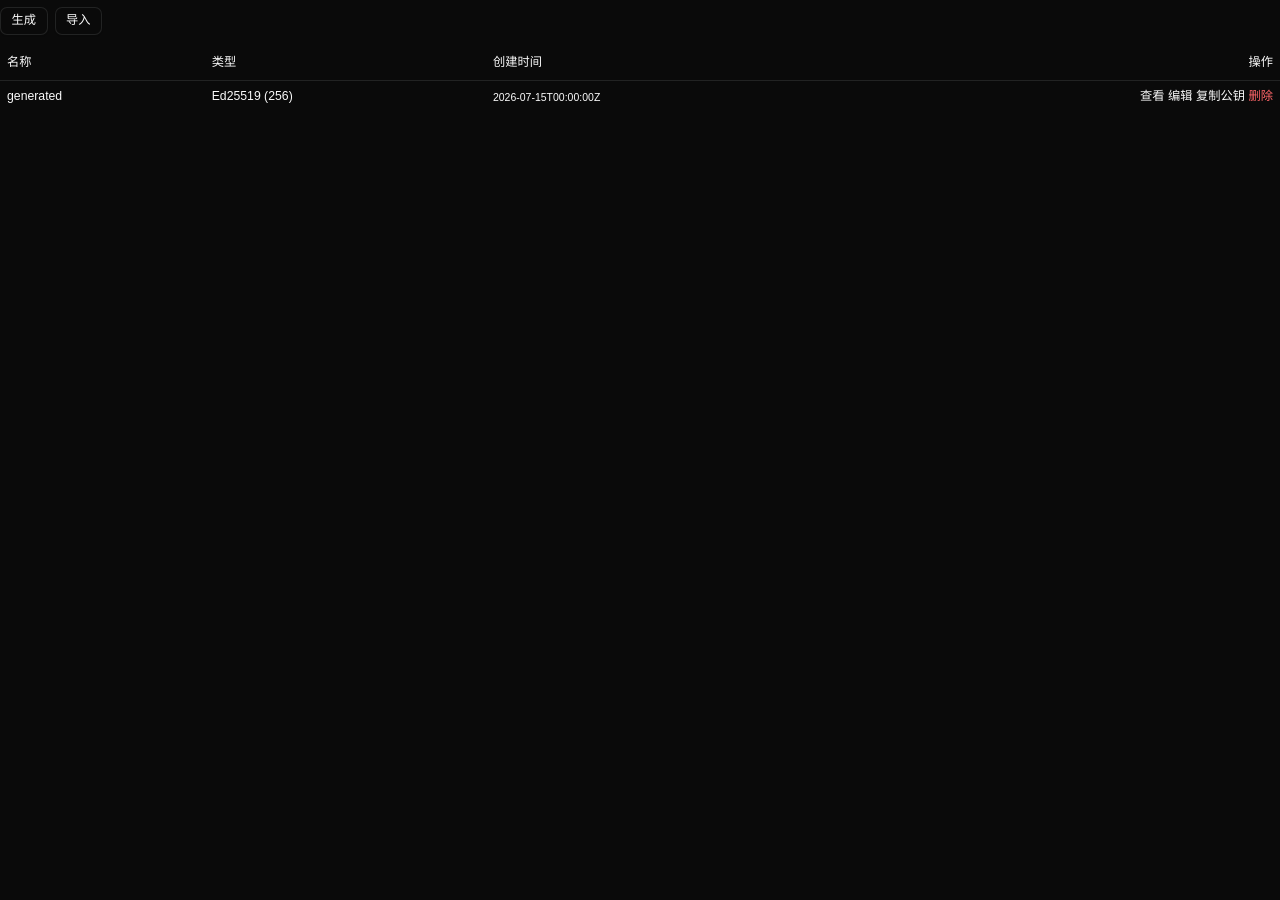
Test: KeyManager › views an existing pair without allowing edits
Step 1. Click the button with aria-label "查看 generated" → (1152, 97), box [1140, 88, 1164, 106]
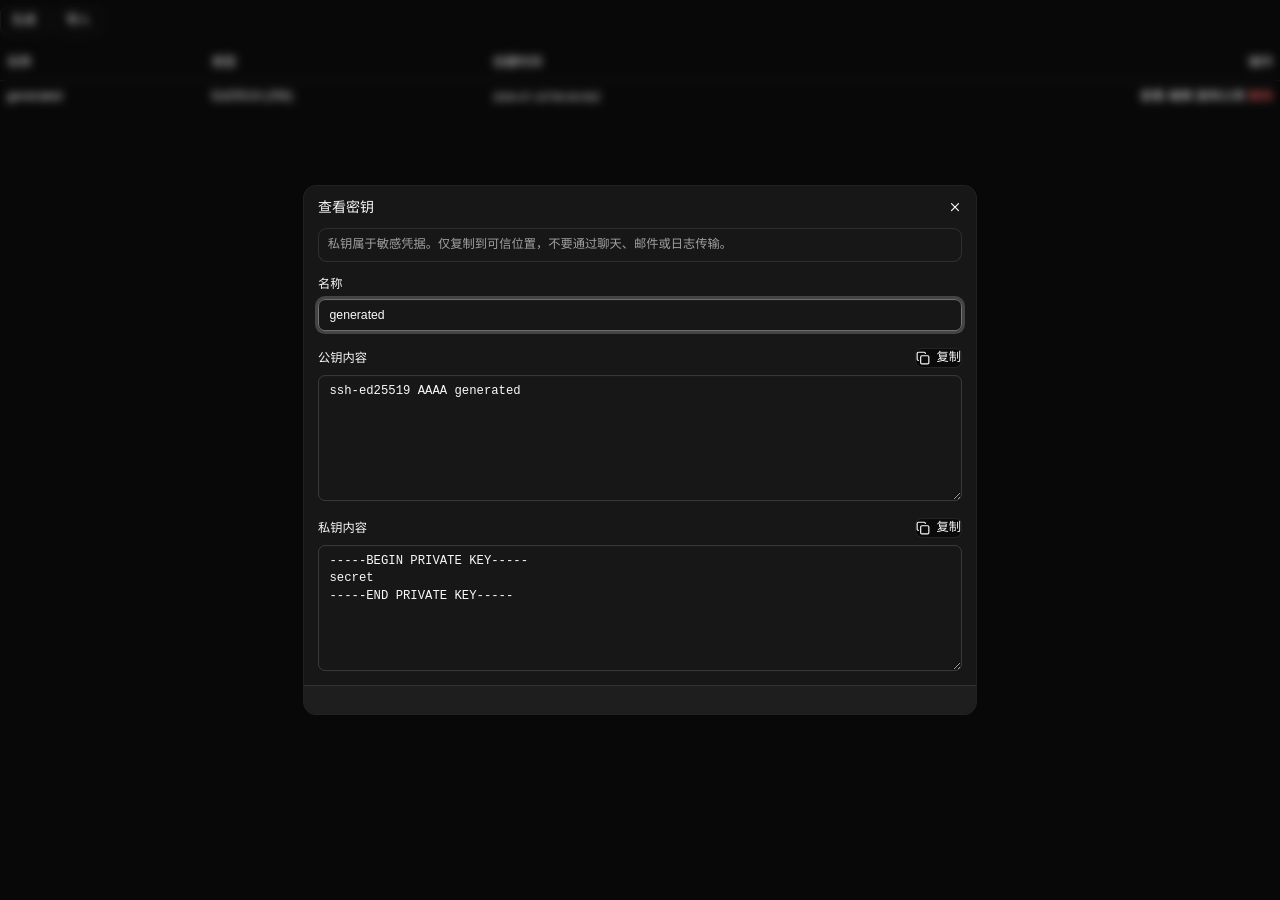
Check: the heading "查看密钥" is shown, box [318, 199, 374, 215]
